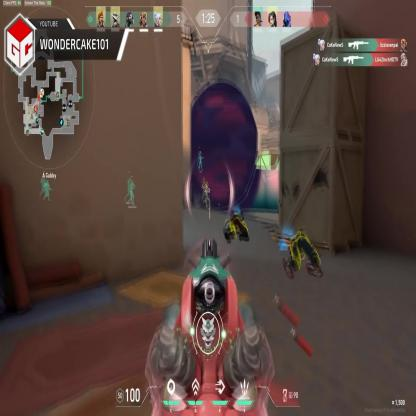enemy: (202, 178, 210, 210)
enemy_head: (202, 178, 206, 184)
